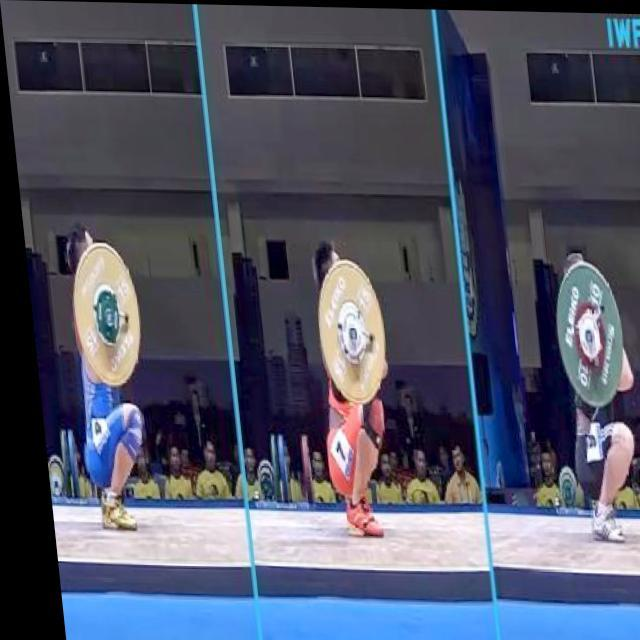barbell: (302, 253, 387, 412), (59, 237, 145, 390), (542, 257, 623, 409)
